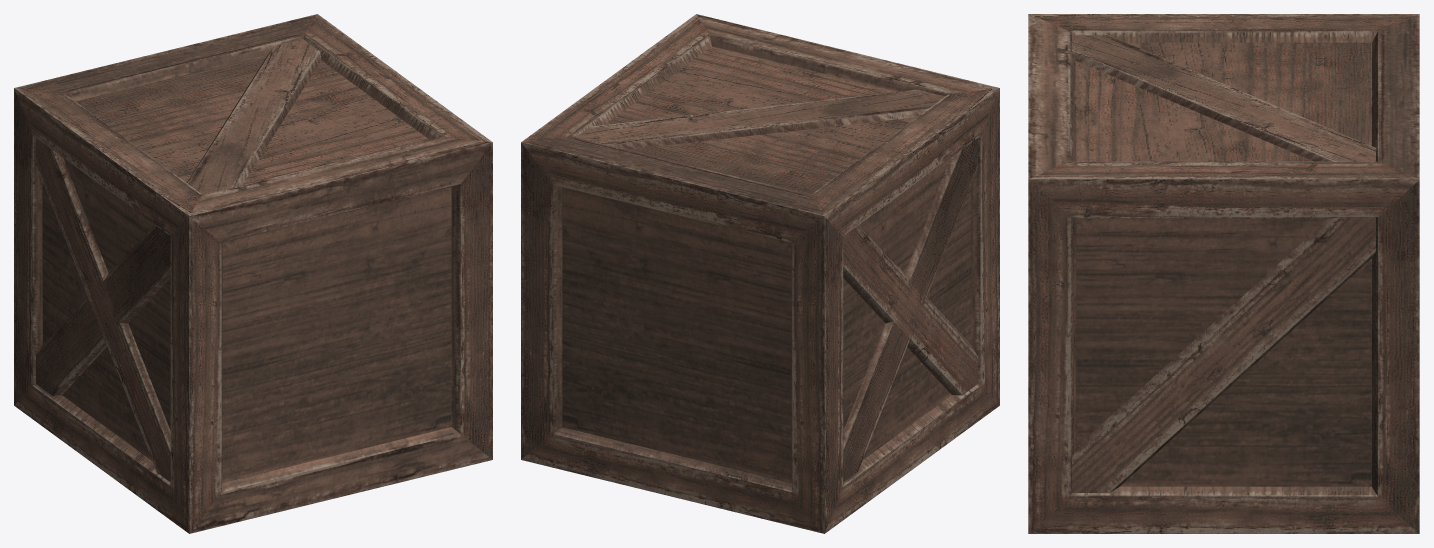
The model's file is crate.FBX.
The picture shows the model from 3 angles, left to right: view 1: azimuth 30°, elevation 25°; view 2: azimuth 150°, elevation 25°; view 3: azimuth 270°, elevation 25°; orthographic projection. The views are drawn at different scales.
Parts seen in each view (by area): view 1: Crate; view 2: Crate; view 3: Crate.
Part boxes in pixels (x1,y1,x2,y2): Crate: (14,14,492,533); Crate: (521,14,999,533); Crate: (1028,14,1419,533).
Size of the model in its own units: 50 by 50 by 50.
